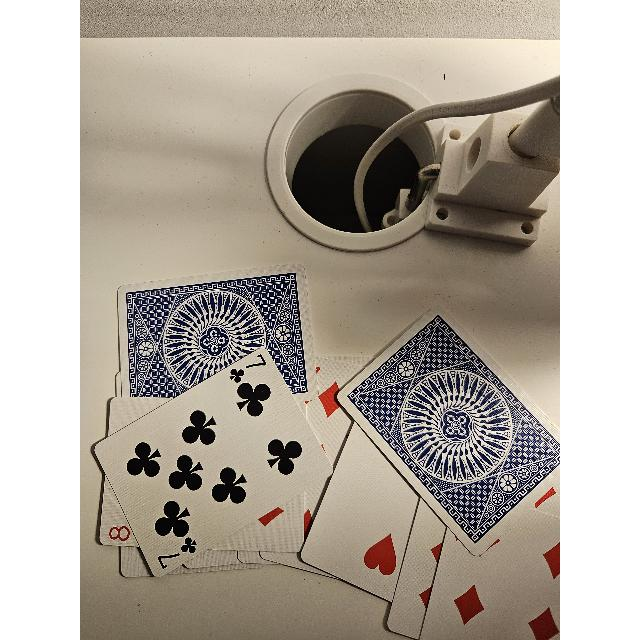7C: (150, 536, 206, 568), (230, 356, 266, 386)
